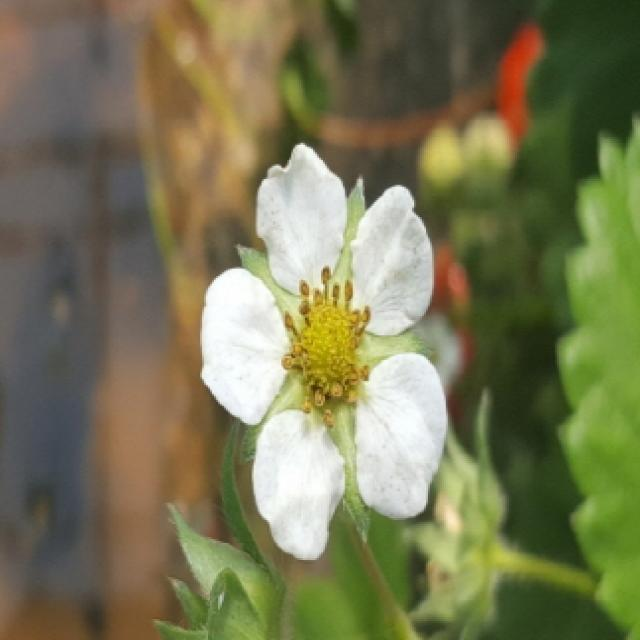Blossom Blight: (277, 259, 377, 431)
